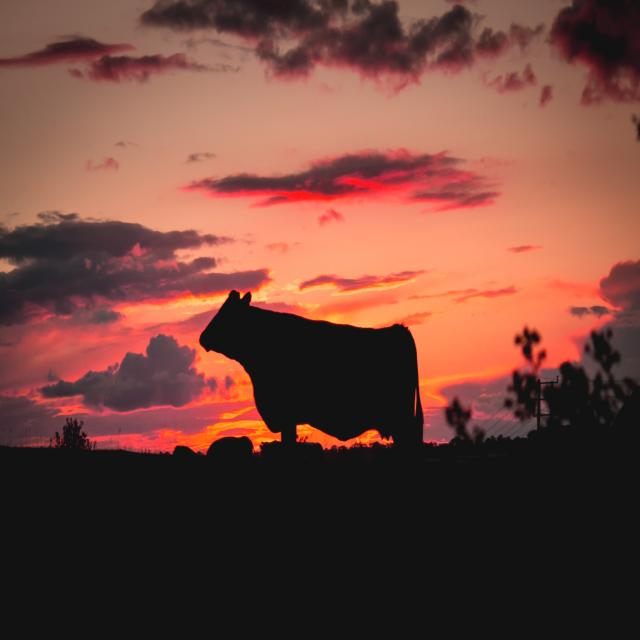cow: (200, 290, 424, 445)
